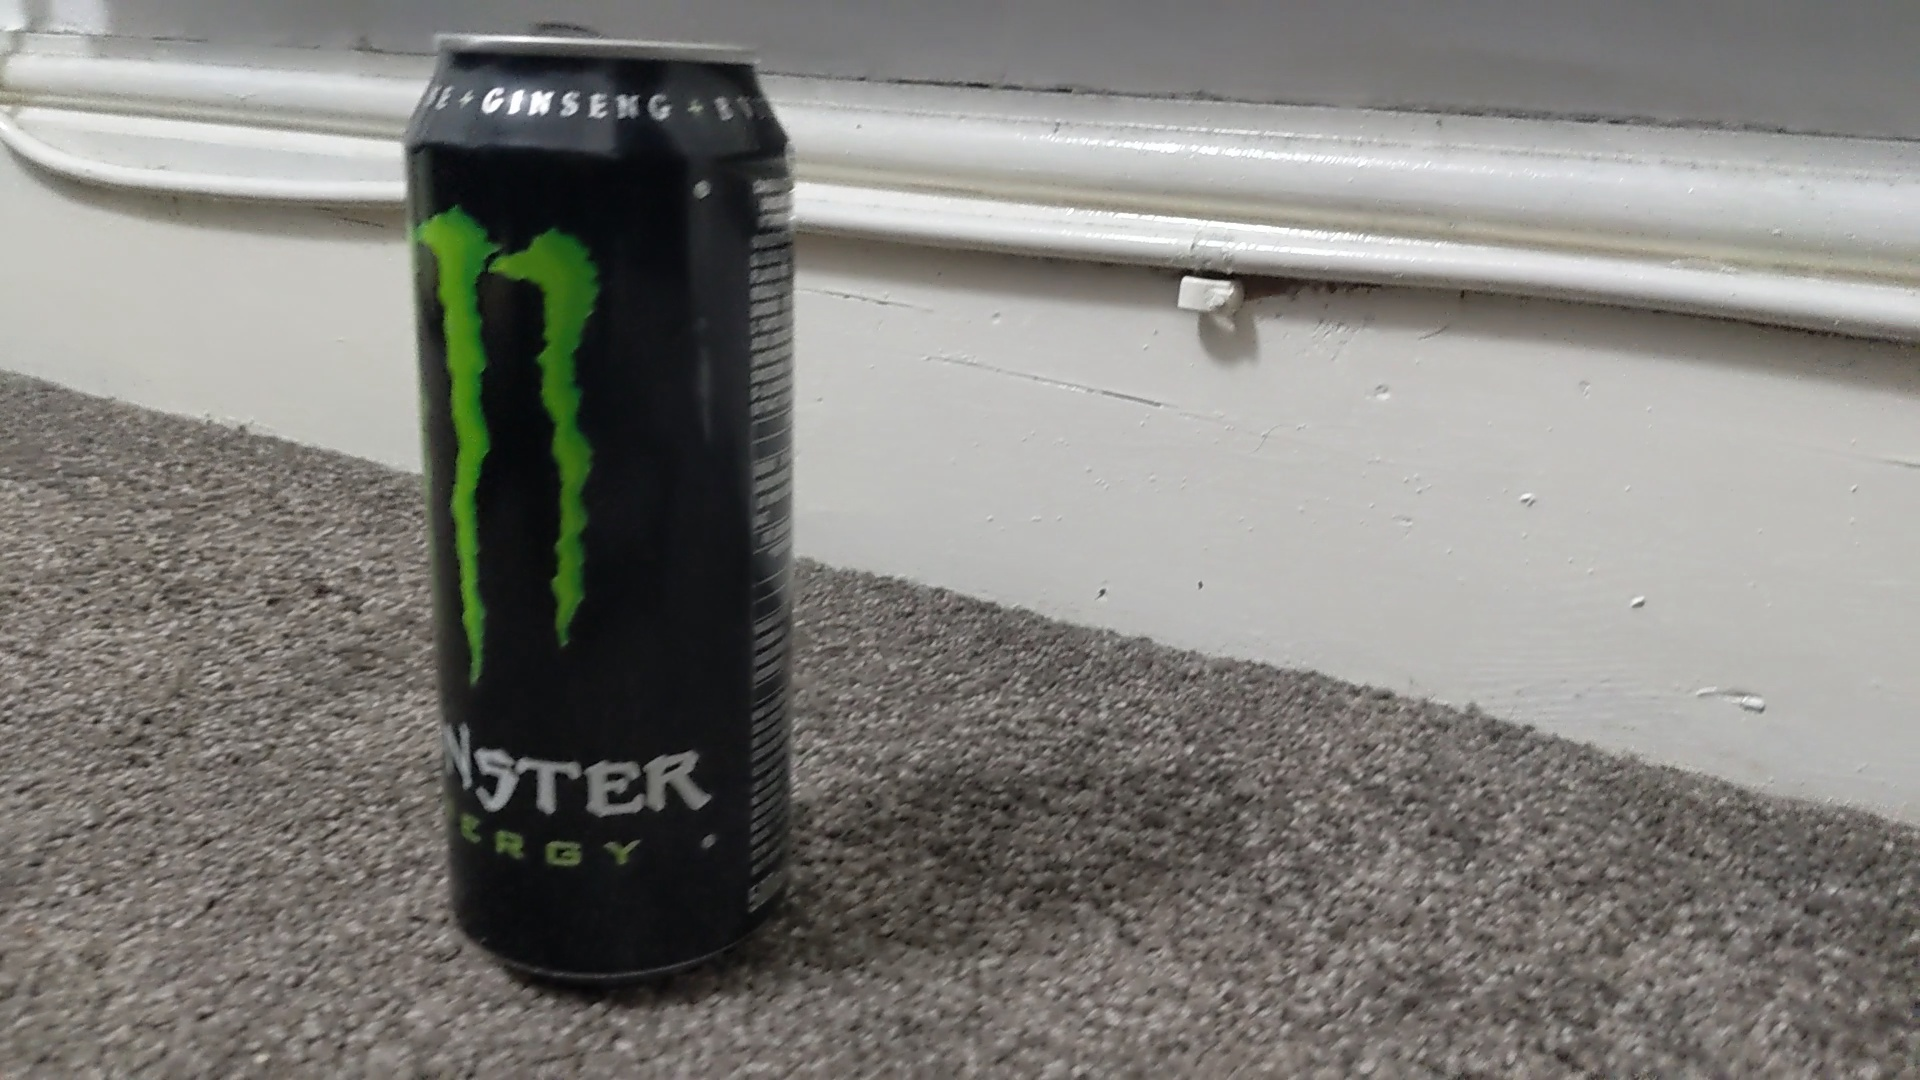monster-original: (404, 34, 789, 980)
